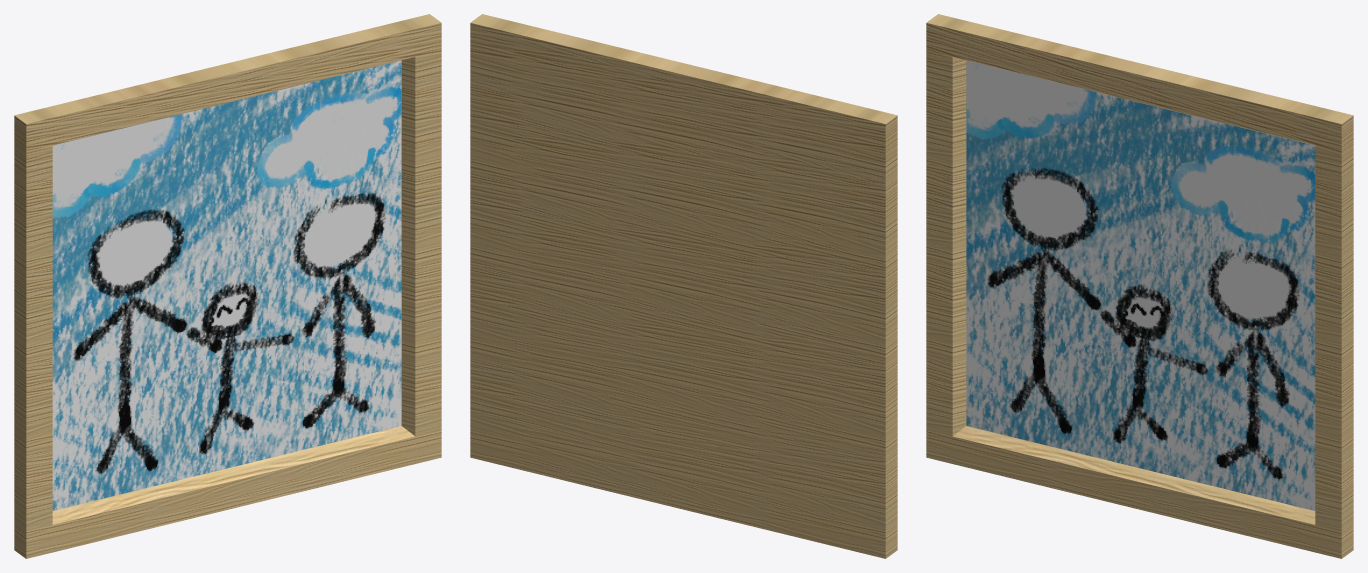
File: 그림액자A.fbx
3 views of the same model, side by side, from view 1: azimuth 30°, elevation 25°; view 2: azimuth 150°, elevation 25°; view 3: azimuth 330°, elevation 25° (orthographic).
Visible parts, largest first — view 1: Group001, Box001; view 2: Box001; view 3: Group001, Box001.
Boxes of the visible parts, bbox=[...] form: Group001: bbox=[52, 60, 401, 510]; Box001: bbox=[14, 14, 441, 558]; Box001: bbox=[470, 14, 897, 558]; Group001: bbox=[966, 60, 1315, 510]; Box001: bbox=[926, 14, 1353, 558].
Bounding box in the file's own units: 10 × 10 × 0.5.
